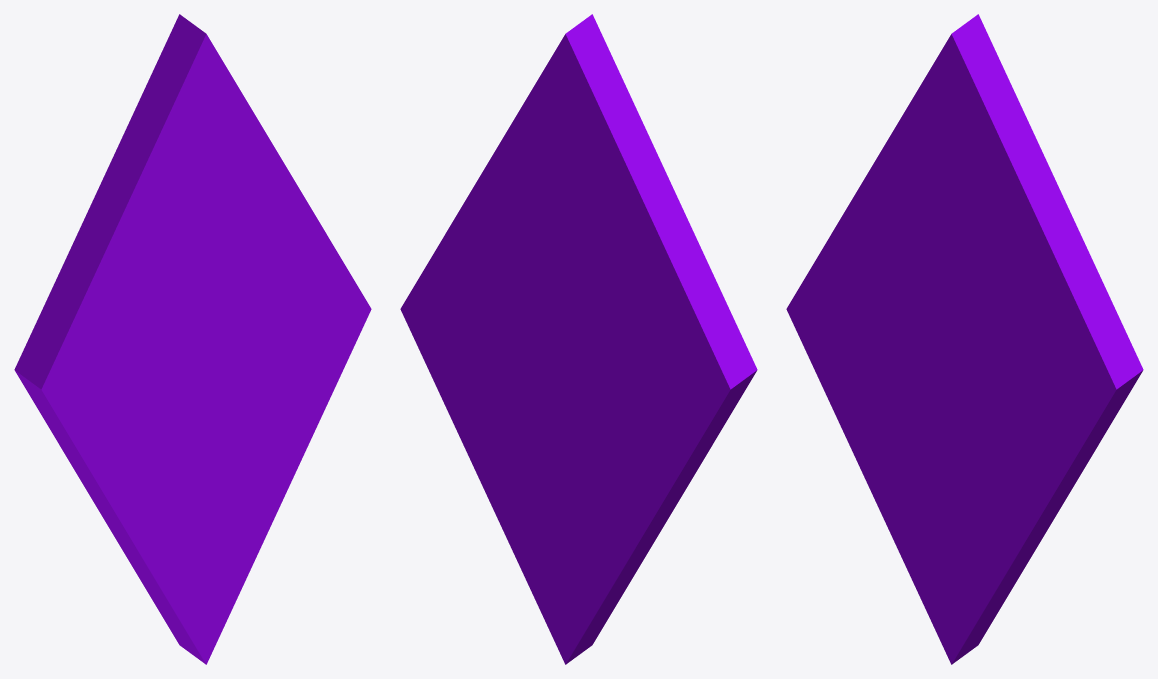
Rendered from Romb.fbx.
3 views of the same model, side by side, from view 1: azimuth 30°, elevation 25°; view 2: azimuth 150°, elevation 25°; view 3: azimuth 330°, elevation 25° (orthographic).
Parts seen in each view (by area): view 1: Plane; view 2: Plane; view 3: Plane.
Boxes of the visible parts, x1,y1,x2,y2 form: Plane: (14,14,371,664); Plane: (400,14,757,664); Plane: (786,14,1143,664).
Bounding box in the file's own units: 2.72 × 4.97 × 0.3854.
1 material, 1 textured.
